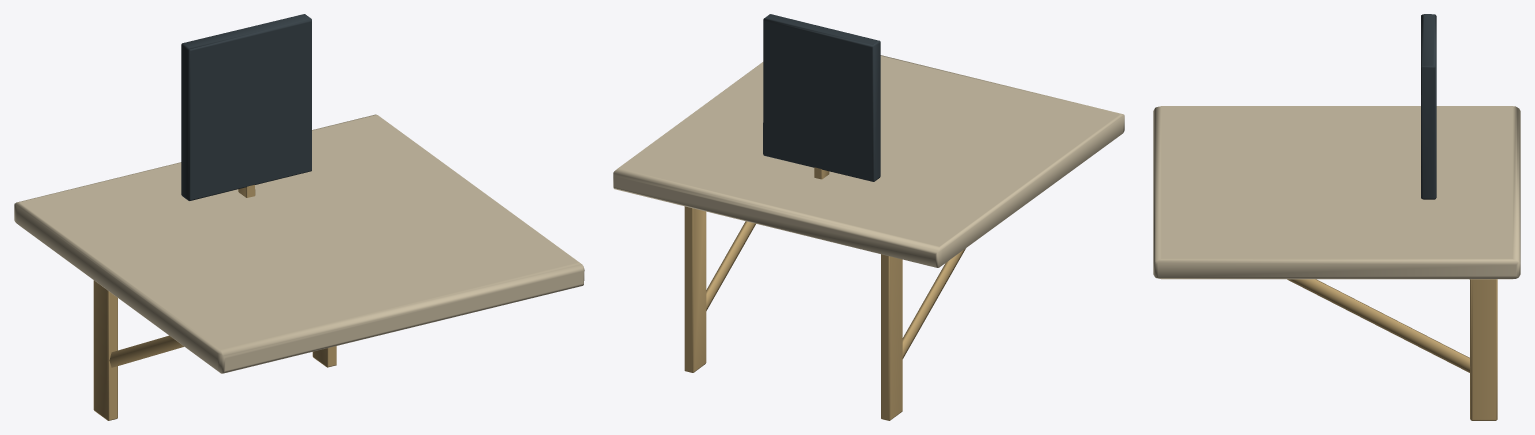
Rendered from desk-20-1.lod.glb.
3 views of the same model, side by side, from view 1: azimuth 30°, elevation 25°; view 2: azimuth 150°, elevation 25°; view 3: azimuth 270°, elevation 25° (orthographic). The views are drawn at different scales.
Parts seen in each view (by area): view 1: upholstery (×3); view 2: upholstery (×3); view 3: upholstery (×3).
Part boxes in pixels (bbox=[...]): upholstery (×3): bbox=[14, 14, 584, 420]; upholstery (×3): bbox=[613, 14, 1124, 420]; upholstery (×3): bbox=[1153, 14, 1520, 420].
Bounding box in the file's own units: 1 × 1 × 1.
